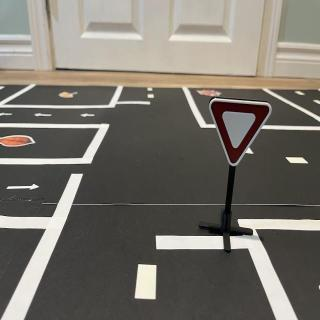road_oneway: (5, 181, 43, 193), (80, 112, 98, 121), (33, 113, 55, 120), (1, 112, 15, 118)
sign_yield: (209, 99, 273, 168)
